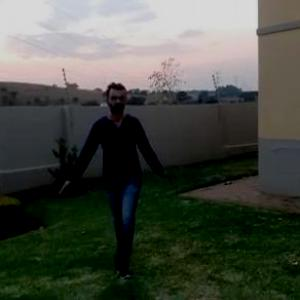land: (44, 66, 186, 286)
